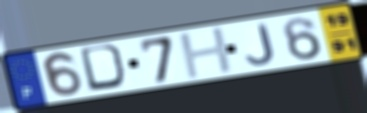6: (40, 50, 84, 99), (280, 16, 323, 61)
7: (138, 35, 176, 85)
D: (77, 42, 132, 93)
H: (176, 24, 237, 81)
J: (244, 22, 277, 67)
